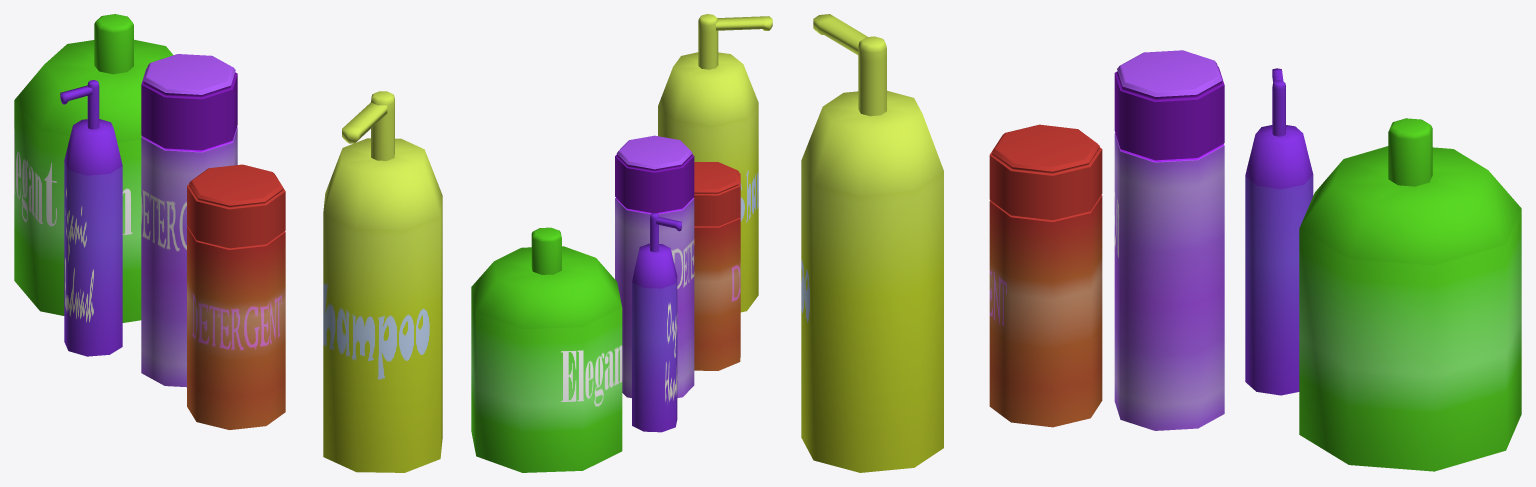
File: Toiletries.glb
3 renders of one model, left to right at view 1: azimuth 30°, elevation 25°; view 2: azimuth 150°, elevation 25°; view 3: azimuth 270°, elevation 25°, orthographic. The views are drawn at different scales.
Visible parts, largest first — view 1: Toiletry5, Toiletry4, Toiletry1, Toiletry3, Toiletry2; view 2: Toiletry1, Toiletry5, Toiletry3, Toiletry4, Toiletry2; view 3: Toiletry1, Toiletry5, Toiletry3, Toiletry4, Toiletry2.
Part boxes in pixels (box(x1,y1,x2,y2)): Toiletry5: box(323, 91, 442, 472); Toiletry4: box(187, 164, 285, 429); Toiletry1: box(14, 14, 173, 322); Toiletry3: box(141, 54, 237, 387); Toiletry2: box(60, 80, 122, 356); Toiletry1: box(471, 227, 622, 472); Toiletry5: box(658, 14, 772, 312); Toiletry3: box(615, 135, 694, 398); Toiletry4: box(694, 162, 740, 370); Toiletry2: box(632, 213, 681, 432); Toiletry1: box(1299, 118, 1521, 471); Toiletry5: box(801, 14, 943, 472); Toiletry3: box(1114, 50, 1224, 430); Toiletry4: box(989, 124, 1102, 427); Toiletry2: box(1245, 68, 1313, 395).
Bounding box in the file's own units: 0.2295 × 0.3899 × 0.6334.
5 materials, 5 textured.
